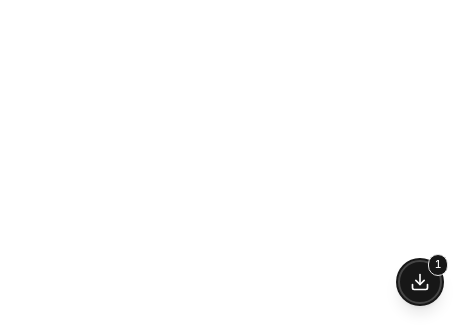
Scenario: DownloadQueuePanel › plays the row exit before removing a failed task
Later steps or results of the test are not shown.
Click the button named "Download Queue" at point(420, 282), box [396,258,444,306]
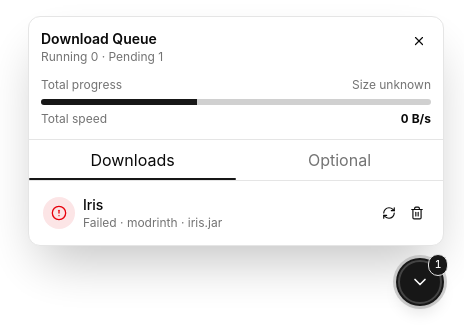
Now the element showing "Iris Failed · modrinth · iris.jar" is shown, box [35,187,437,239]
